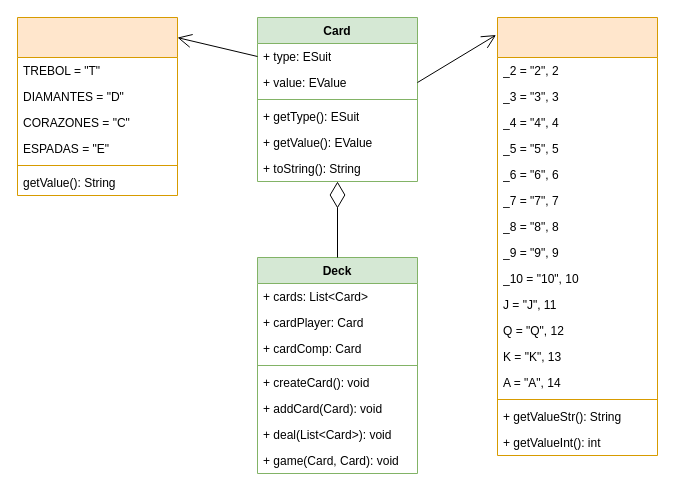
The diagram is 675 pixels wide and 494 high, and some of its shapes have lost their labels. Here are the shapes that lost their labels. From the top down, the box of each, then its label:
(16, 16, 178, 196): «enumeracion» ESuit
(496, 16, 658, 456): «enumeracion» EValue
